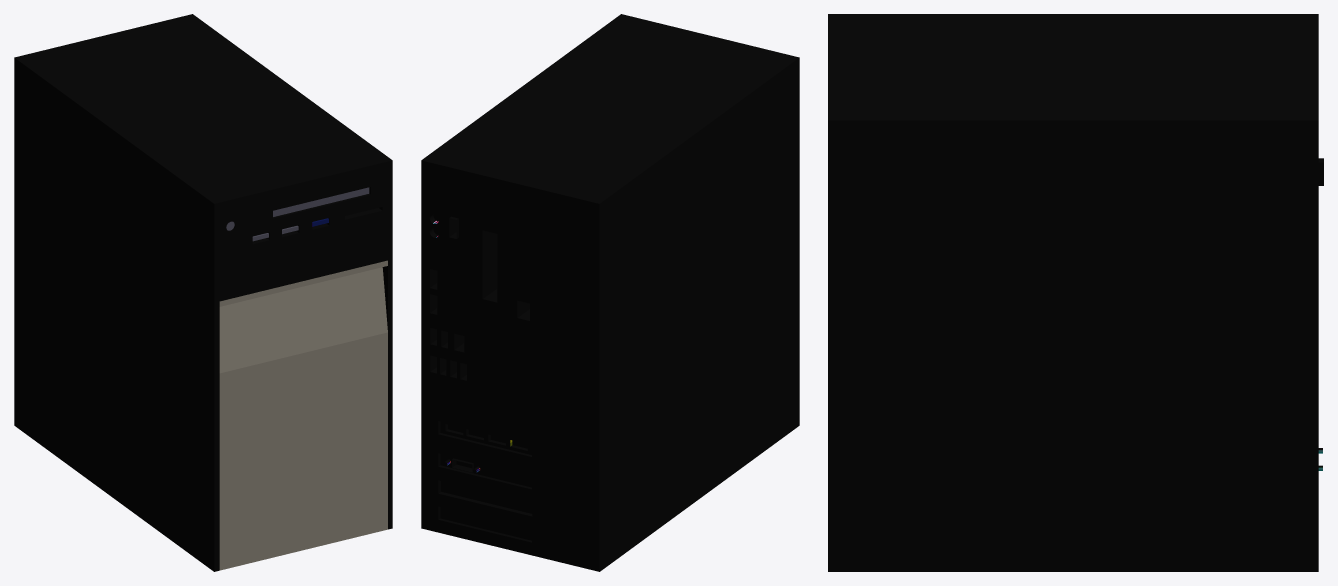
The model's file is gabineteverdaderocopia.fbx.
3 renders of one model, left to right at view 1: azimuth 30°, elevation 25°; view 2: azimuth 150°, elevation 25°; view 3: azimuth 270°, elevation 25°, orthographic. The views are drawn at different scales.
Parts seen in each view (by area): view 1: Super Gabinete; view 2: Super Gabinete; view 3: Super Gabinete.
Boxes of the visible parts, left/top/right/bottom form: Super Gabinete: left=14, top=14, right=392, bottom=571; Super Gabinete: left=421, top=14, right=799, bottom=571; Super Gabinete: left=828, top=14, right=1323, bottom=571.
Bounding box in the file's own units: 17 × 33.5 × 33.35.
1 material, 1 textured.
